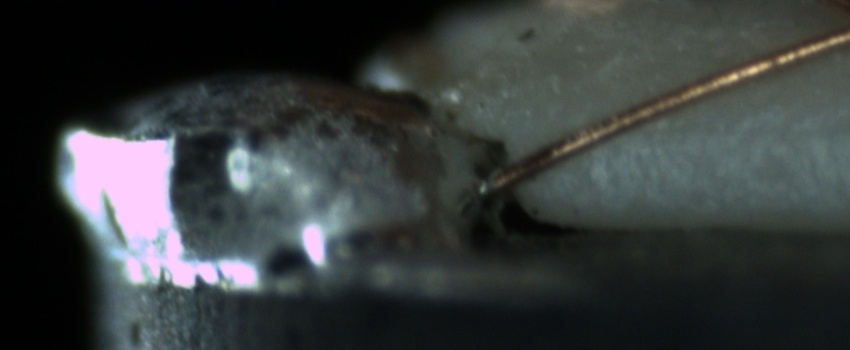DL: (628, 101, 850, 158)
